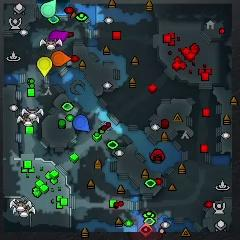p1: (73, 115, 90, 132)
p2: (41, 0, 57, 18)
p3: (49, 30, 68, 46)
p4: (37, 56, 52, 77)
p5: (51, 50, 71, 66)
